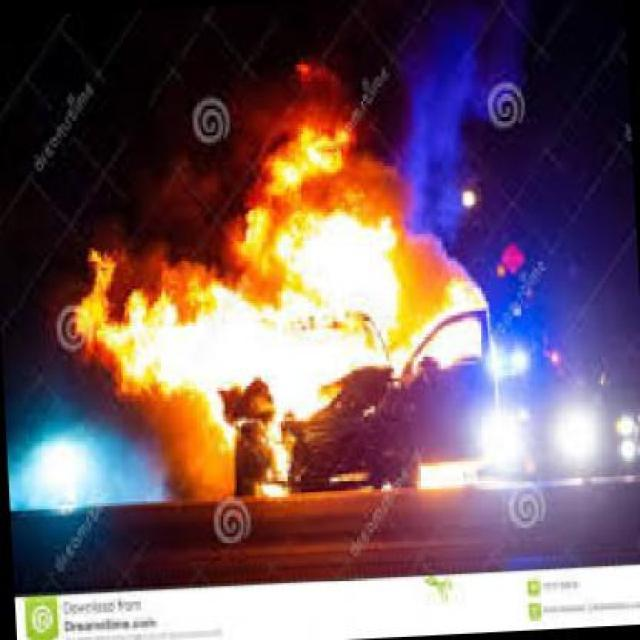Smoke: (61, 87, 468, 411)
